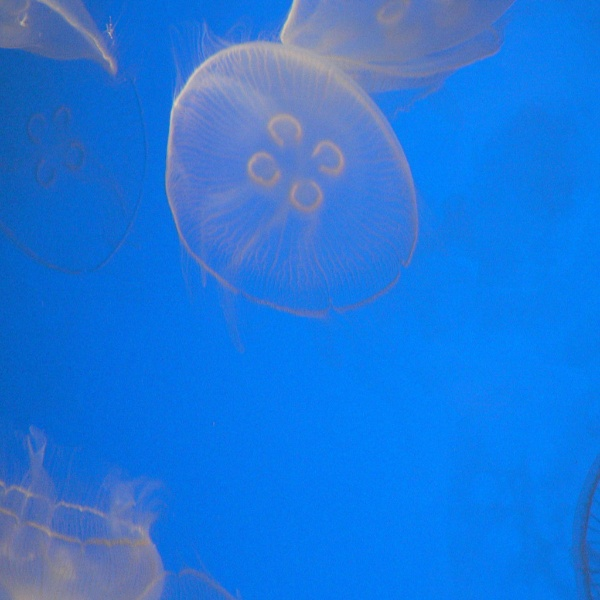Jellyfish: (157, 30, 422, 325), (0, 44, 149, 283), (0, 426, 161, 599), (278, 0, 516, 100), (0, 0, 115, 75)
